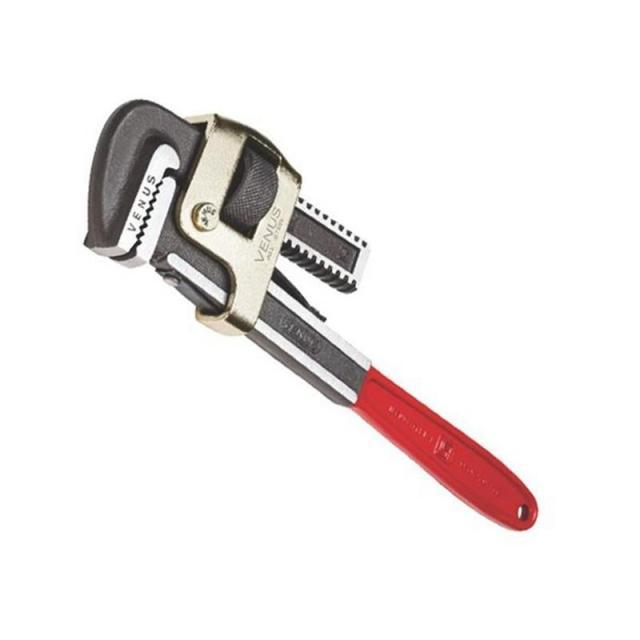wrench: (78, 91, 540, 536)
